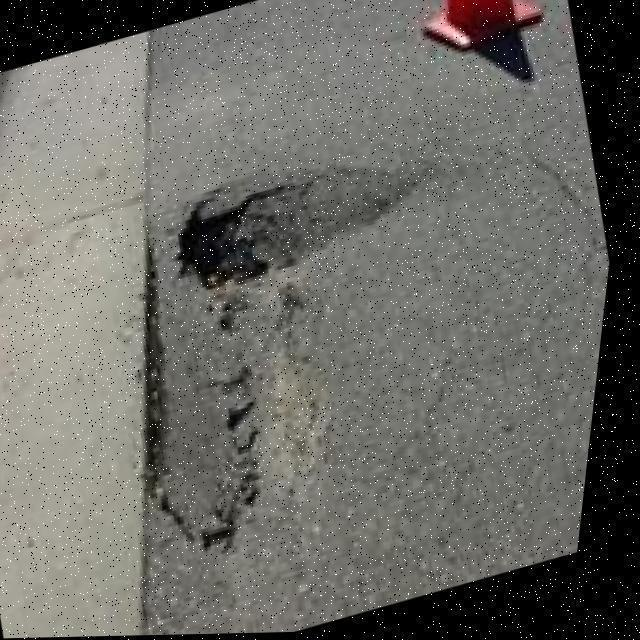Pothole: (137, 216, 271, 557), (173, 161, 425, 297)
